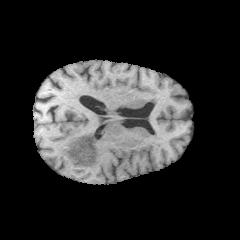glioma: (57, 129, 109, 173)
